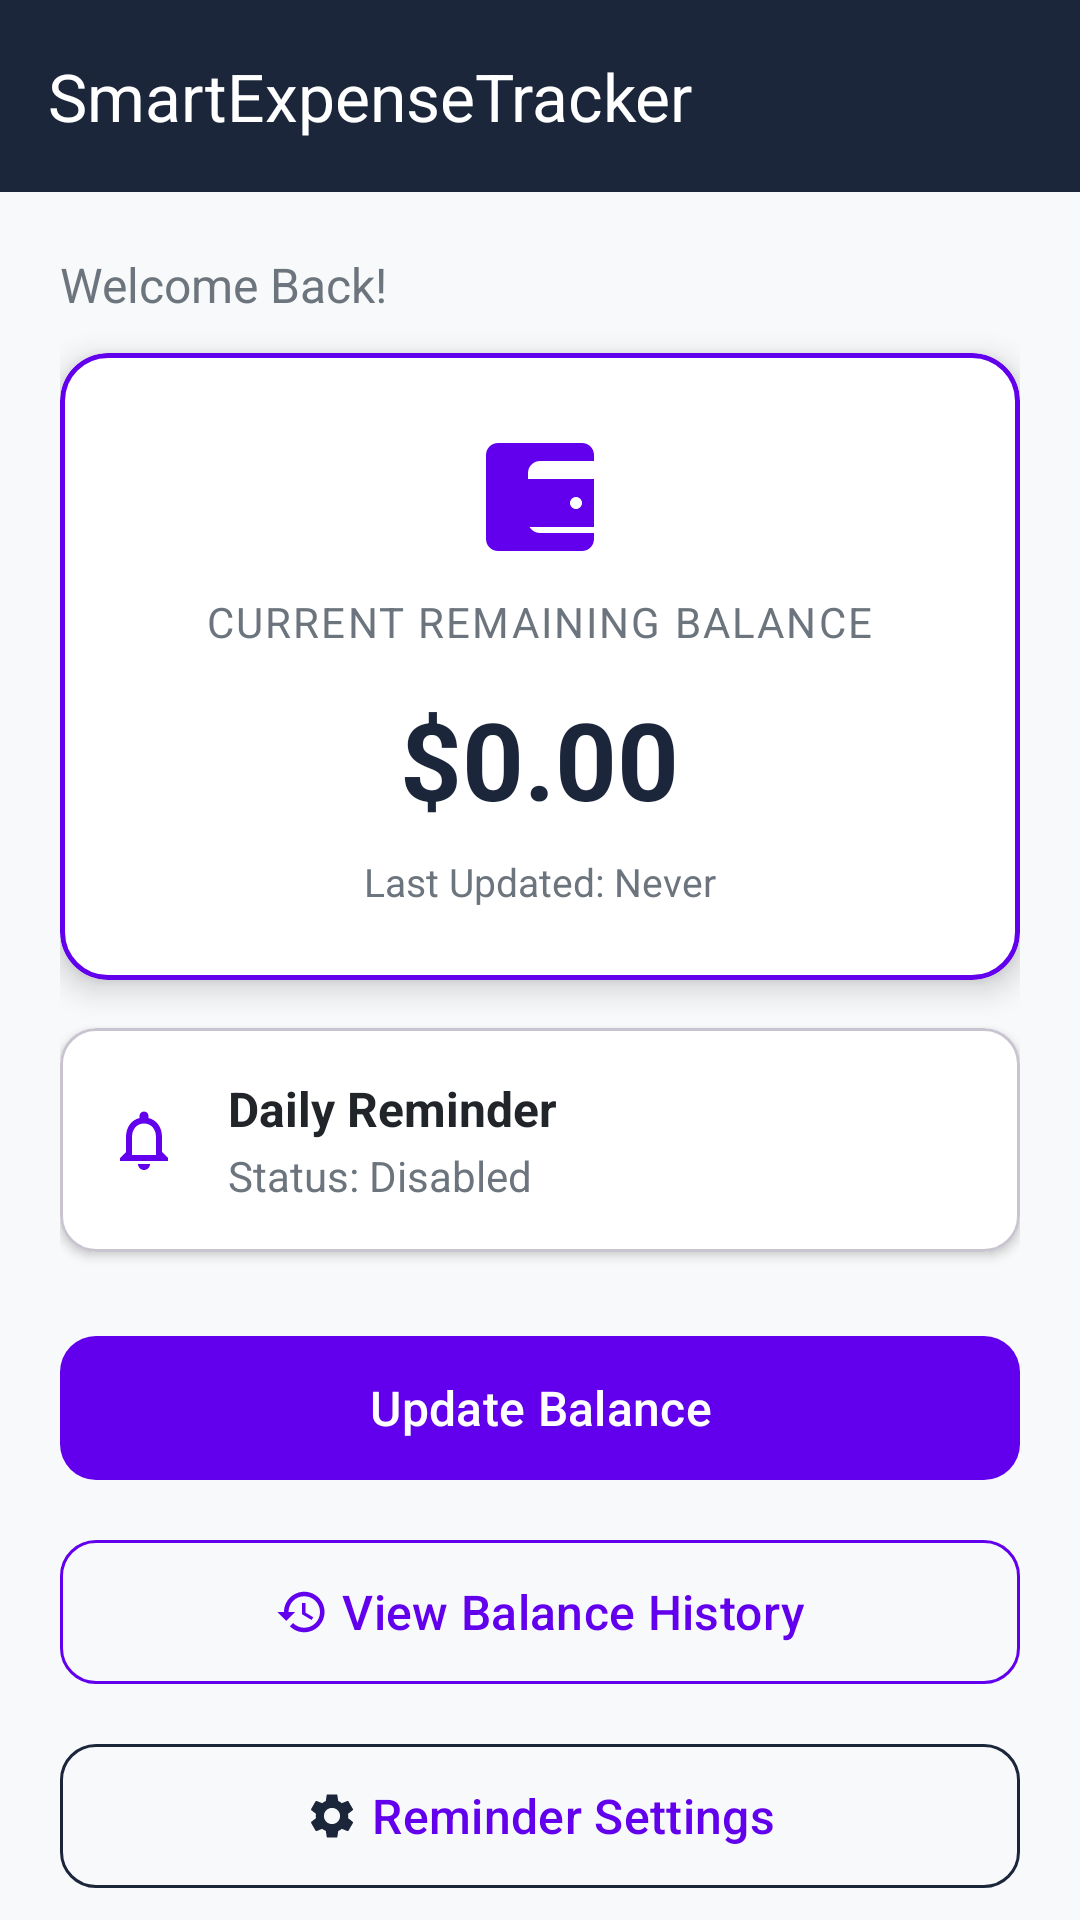

Locate icon controls on the screen. Image size 1080*1920, boxes as (x1, y1, x2, y2).
notification: (120, 1111, 168, 1170)
wallet: (486, 443, 594, 551)
